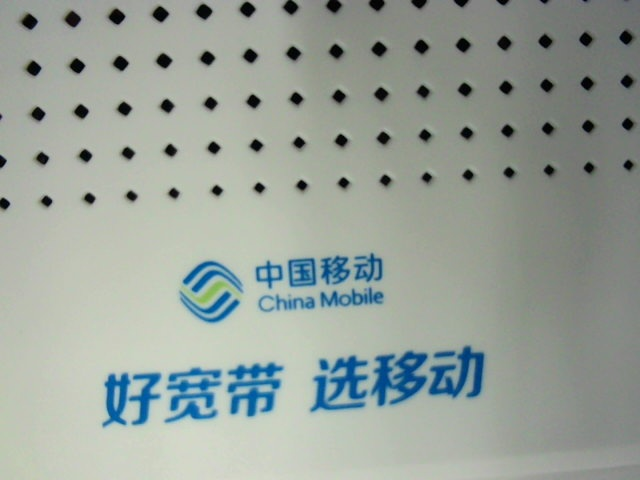AA_ChinaMobile: (84, 245, 502, 430)
